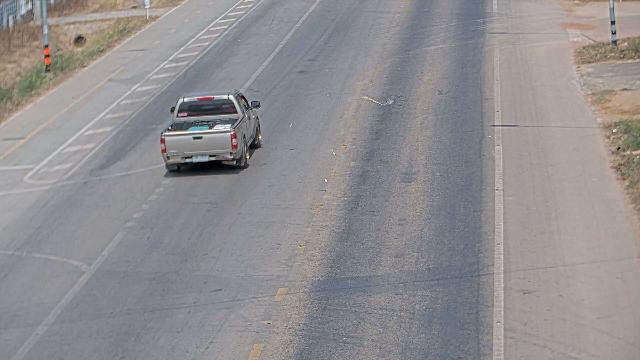pickup-truck: (159, 89, 262, 172)
